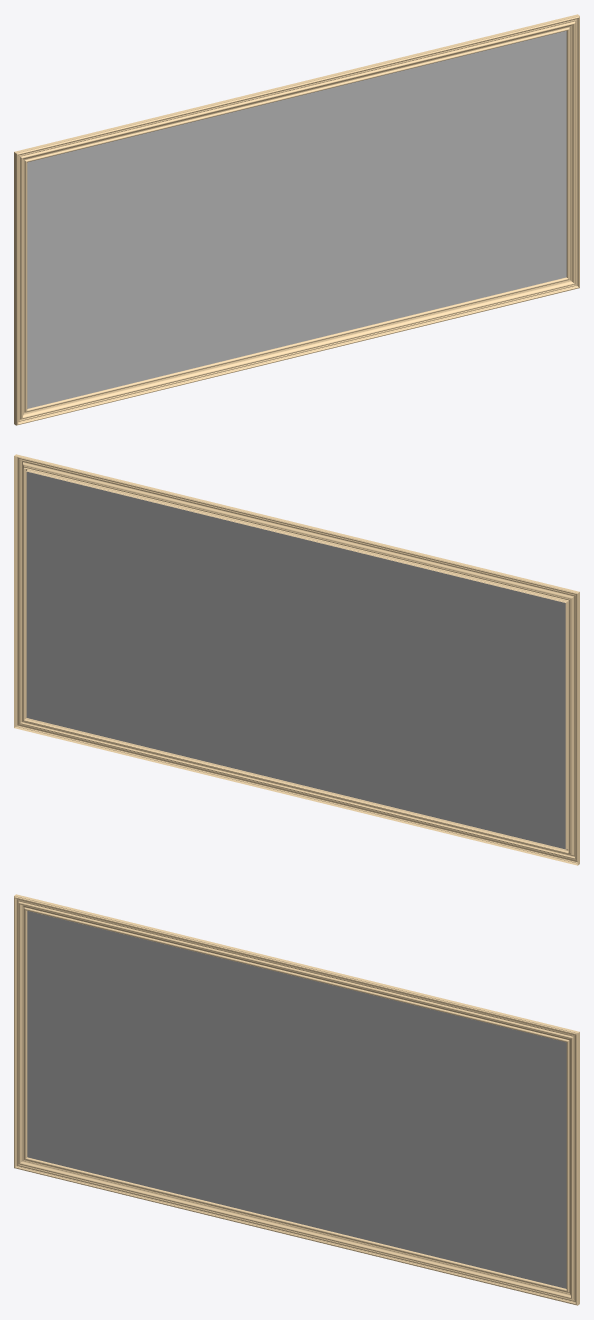
Rendered from Picture Frame.fbx.
3 views of the same model, one above another, from view 1: azimuth 30°, elevation 25°; view 2: azimuth 150°, elevation 25°; view 3: azimuth 330°, elevation 25° (orthographic).
Visible parts, largest first — view 1: Picture, Picture_Frame; view 2: Picture, Picture_Frame; view 3: Picture, Picture_Frame.
Part boxes in pixels (left/top/right/bottom): Picture: left=27, top=31, right=566, bottom=408; Picture_Frame: left=14, top=14, right=579, bottom=425; Picture: left=26, top=471, right=565, bottom=849; Picture_Frame: left=14, top=454, right=579, bottom=865; Picture: left=27, top=911, right=566, bottom=1288; Picture_Frame: left=14, top=894, right=579, bottom=1305.
Bounding box in the file's own units: 286 × 132 × 2.37.
